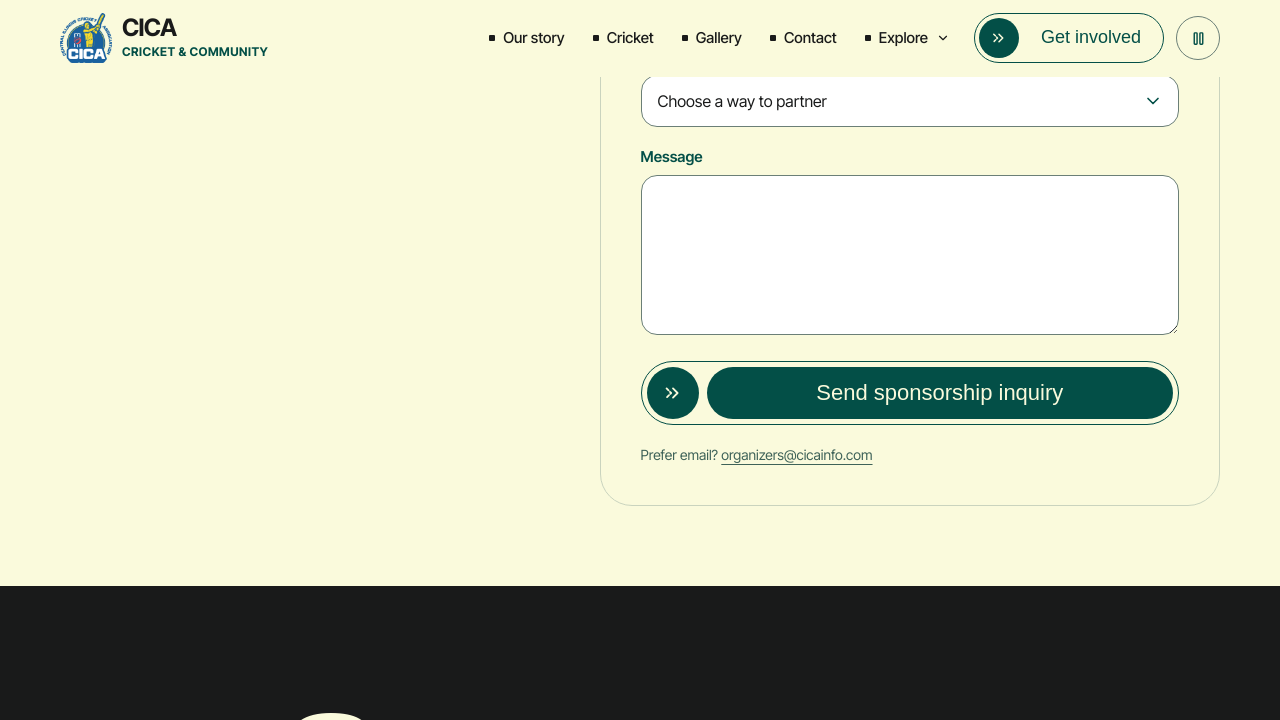
Scenario: Sponsor Form › should show validation errors for empty fields
(page scrolled)
Click the button "Send sponsorship inquiry". click: (910,393)
box: [641,361,1179,425]
(page scrolled)
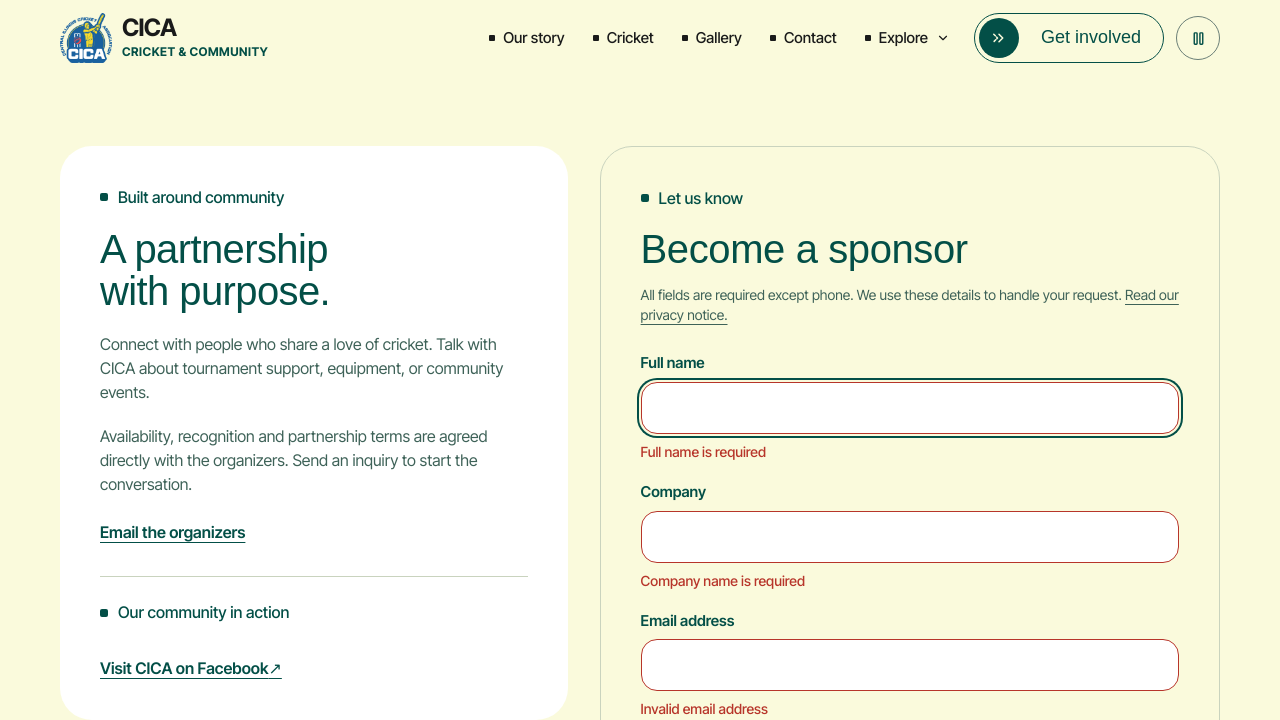
expect the text "Full name is required" is shown: met, box [641,443,766,460]
expect the text "Company name is required" is shown: met, box [641,572,805,589]
expect the text "Invalid email address" is shown: met, box [641,700,768,717]
